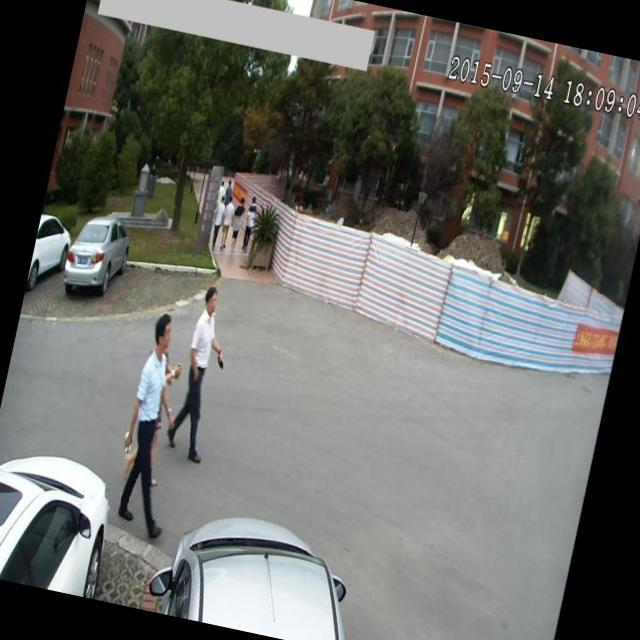person: (103, 303, 211, 550), (158, 278, 242, 474), (238, 189, 264, 256), (214, 191, 240, 254), (203, 192, 230, 251), (225, 191, 249, 257)
